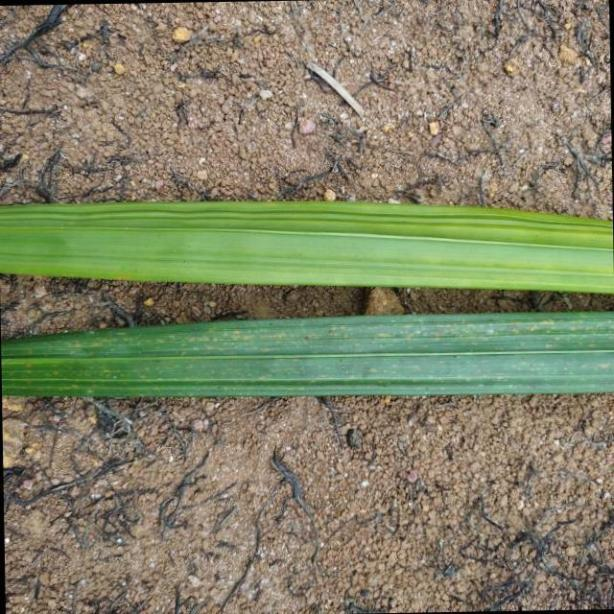nitrogen: (0, 200, 614, 294), (0, 314, 614, 397)
